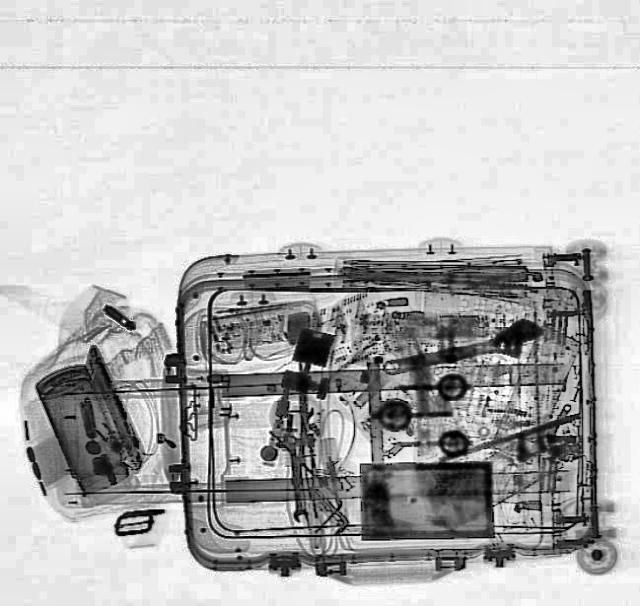Wrench: (378, 314, 548, 386), (286, 448, 308, 522)
